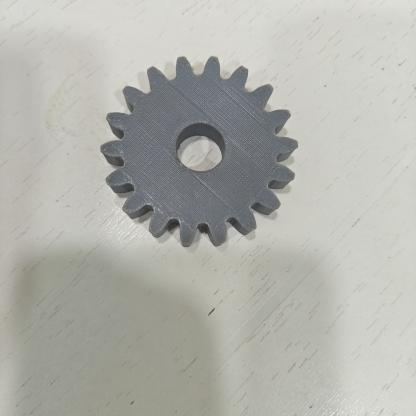gear: (91, 44, 301, 254)
